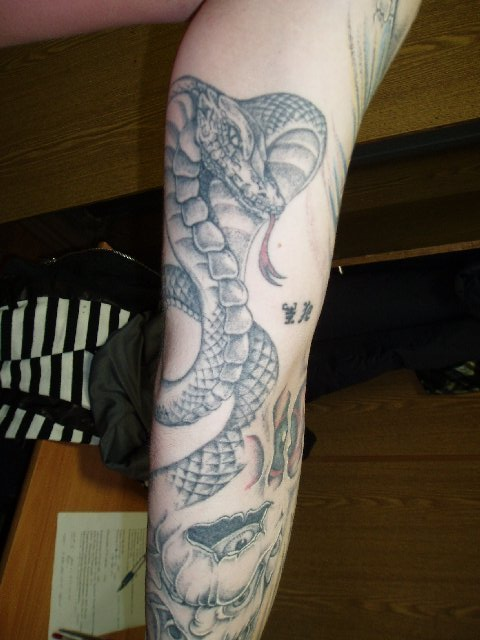tatu7_zmeya: (119, 47, 331, 610)
